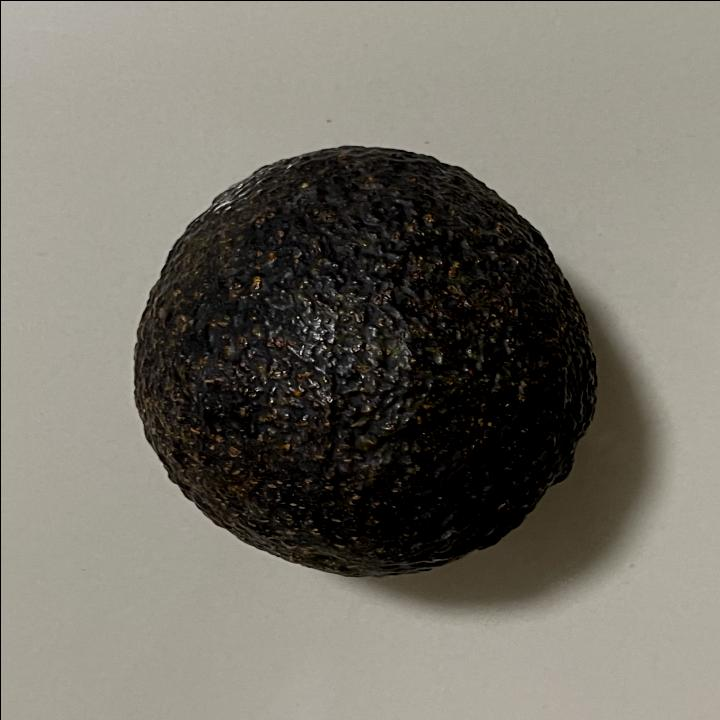Level1: (120, 131, 608, 590)
